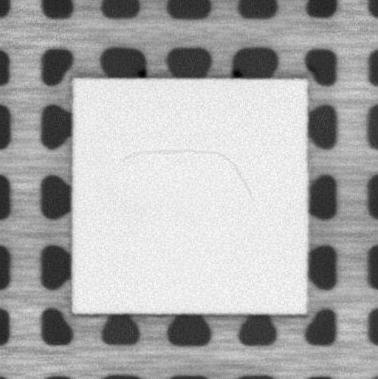DIE_CRACK: (121, 148, 256, 201)
